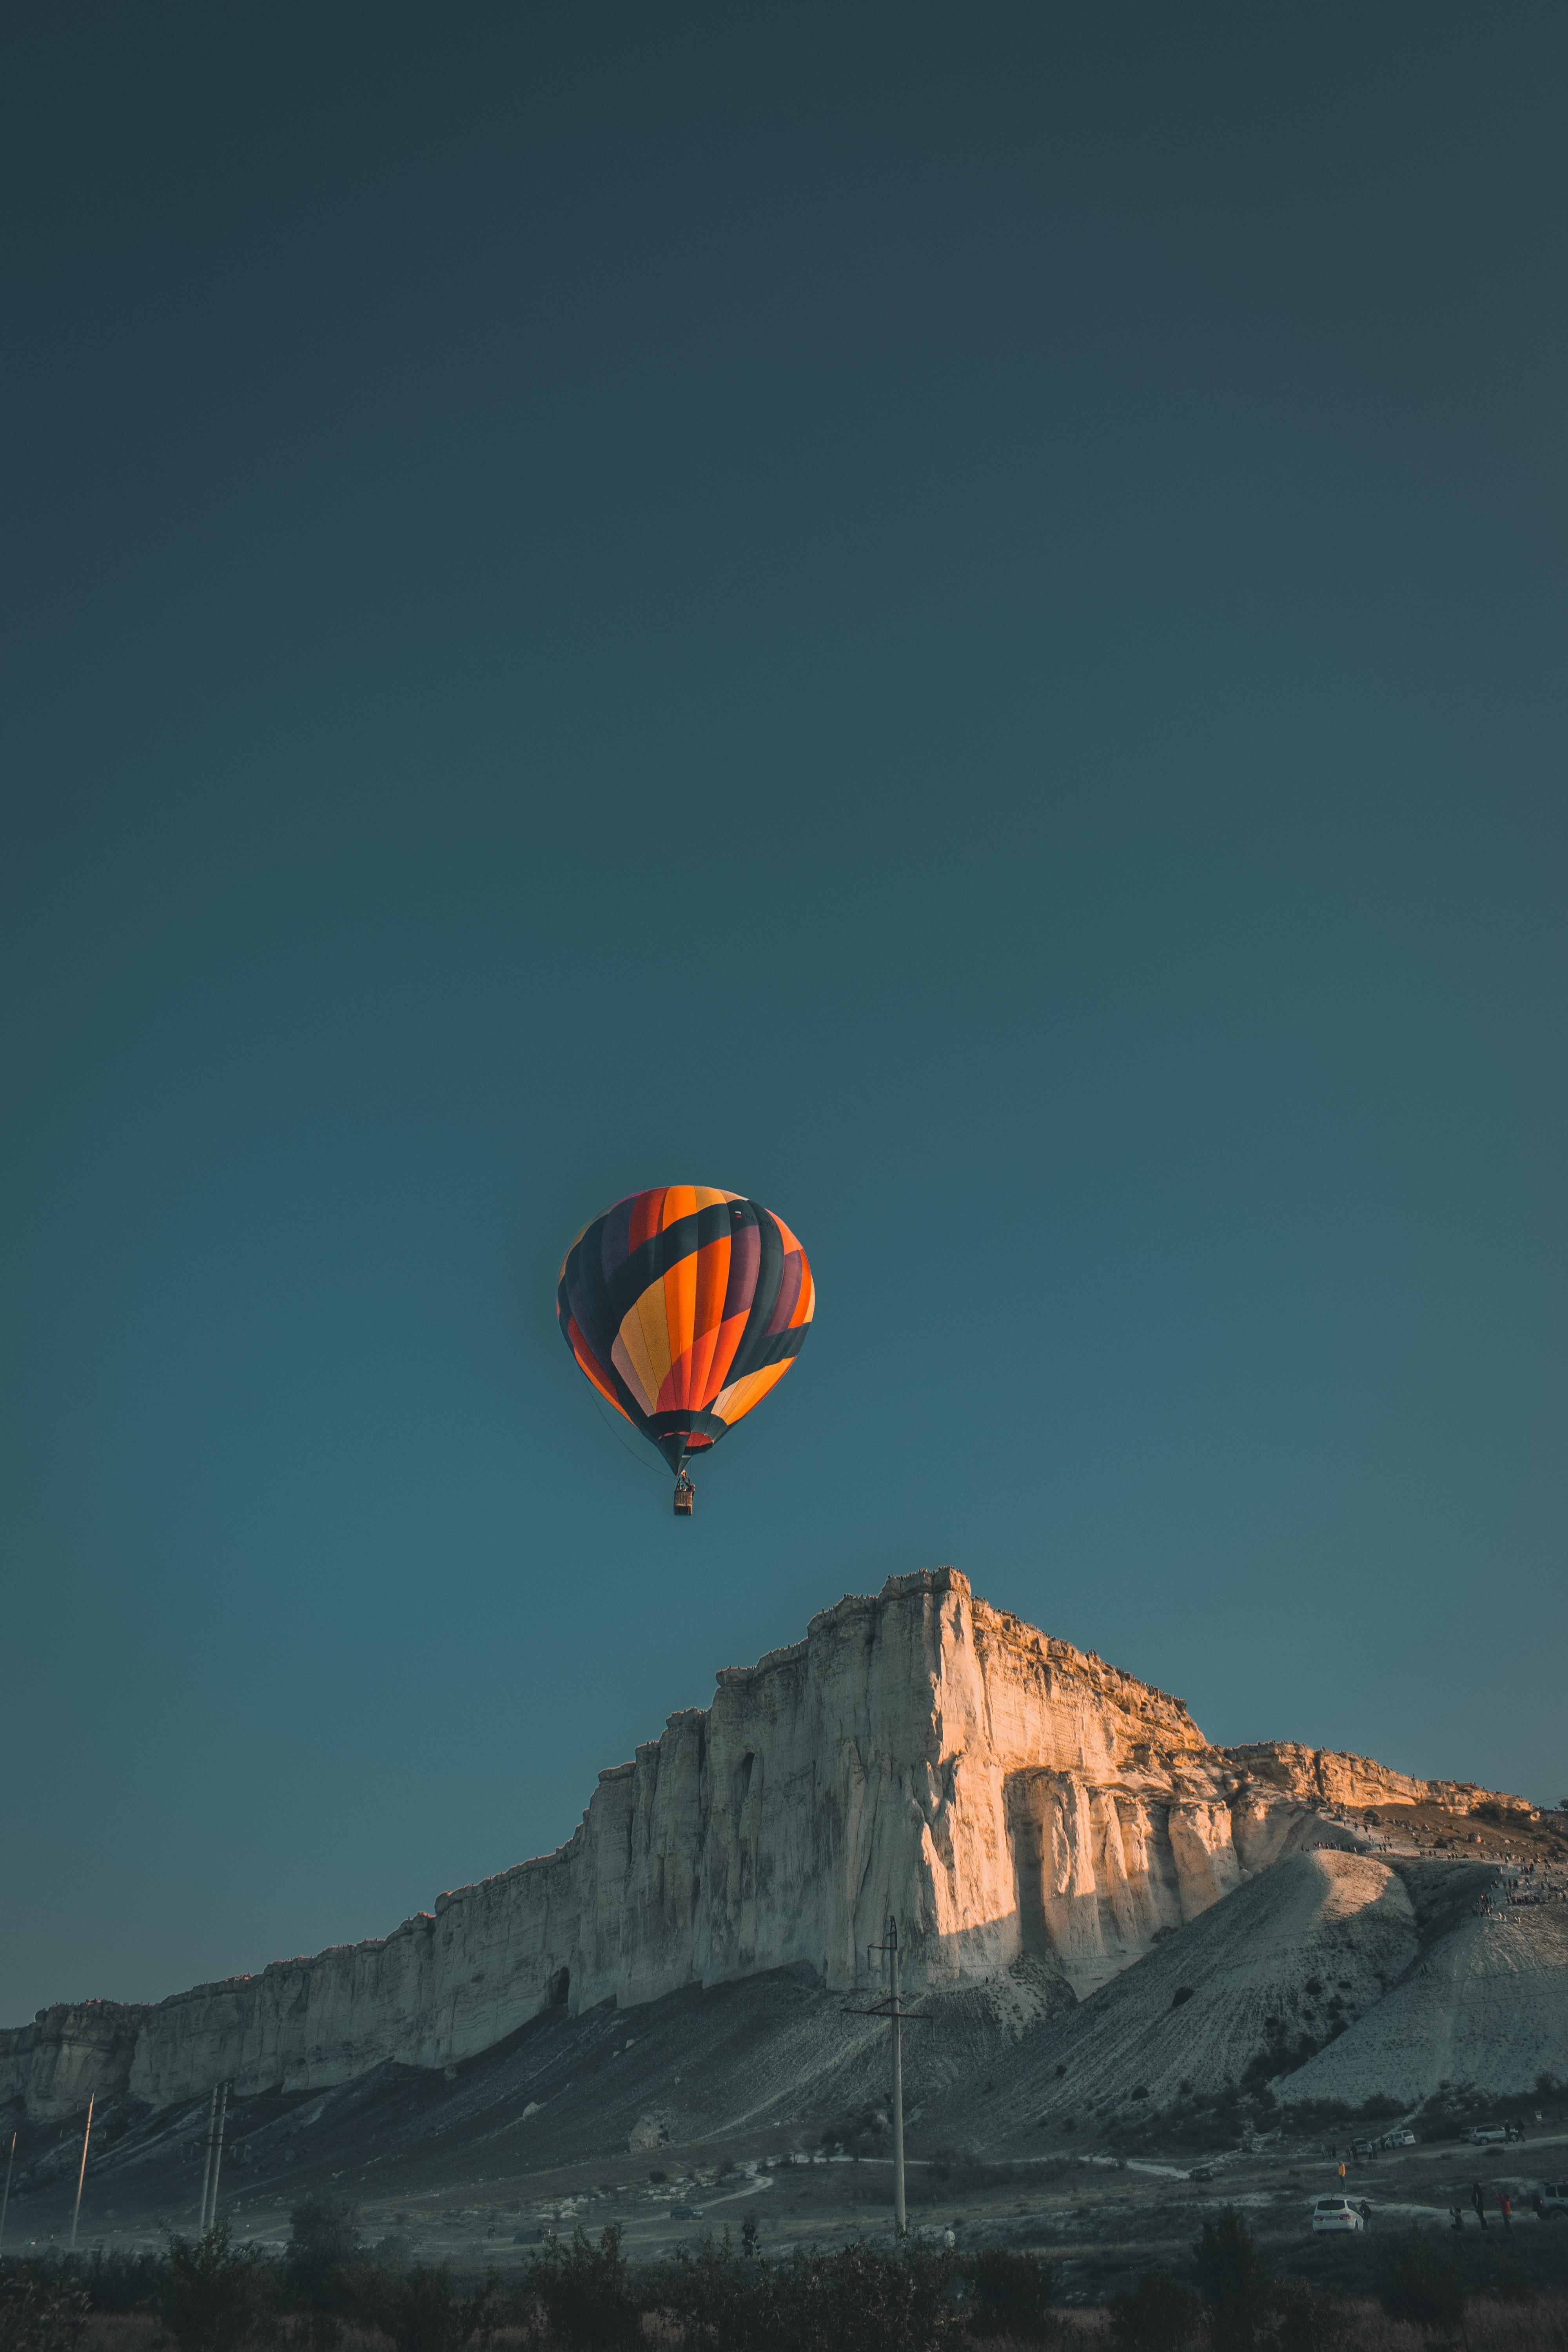hot air ballon: (555, 1183, 817, 1516)
